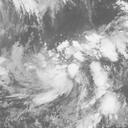cyclone: (30, 42, 101, 110)
